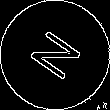N_SE: (23, 24, 87, 86)
